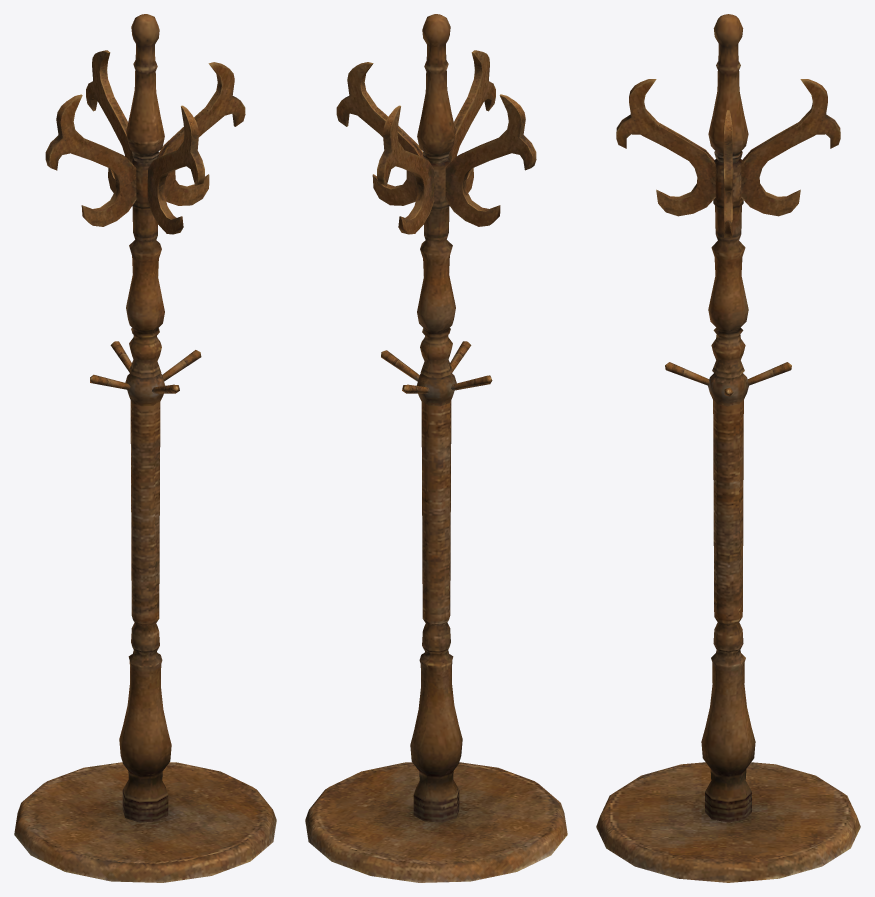
Rendered from 005_Coathanging.fbx.
3 views of the same model, side by side, from view 1: azimuth 30°, elevation 25°; view 2: azimuth 150°, elevation 25°; view 3: azimuth 270°, elevation 25° (orthographic).
Parts seen in each view (by area): view 1: LOD_1_Group_0_Sub_1__sm30_005_CoatHanging01A_A_Mat; view 2: LOD_1_Group_0_Sub_1__sm30_005_CoatHanging01A_A_Mat; view 3: LOD_1_Group_0_Sub_1__sm30_005_CoatHanging01A_A_Mat.
Part boxes in pixels (box(x1,y1,x2,y2)): LOD_1_Group_0_Sub_1__sm30_005_CoatHanging01A_A_Mat: box(14, 14, 276, 882); LOD_1_Group_0_Sub_1__sm30_005_CoatHanging01A_A_Mat: box(305, 14, 567, 882); LOD_1_Group_0_Sub_1__sm30_005_CoatHanging01A_A_Mat: box(596, 14, 860, 882).
Bounding box in the file's own units: 0.6103 × 2.06 × 0.6103.
